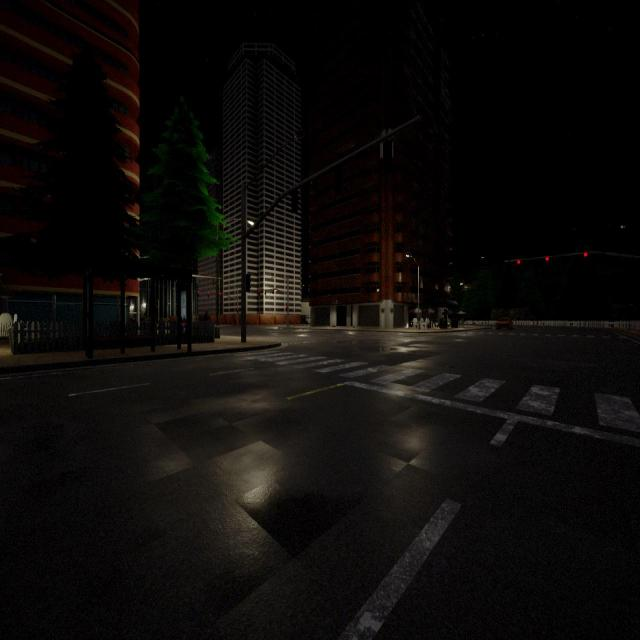Pedestrian: (202, 309, 211, 322)
Vehicle: (495, 318, 514, 330)
traffic_light: (383, 136, 392, 170), (333, 162, 342, 191), (291, 188, 298, 212), (246, 274, 252, 292), (285, 302, 288, 312), (517, 259, 521, 265), (545, 256, 549, 261), (584, 252, 588, 257), (197, 290, 199, 297), (258, 290, 260, 296), (264, 289, 266, 295), (272, 288, 274, 294), (219, 292, 221, 296), (208, 292, 209, 297), (238, 310, 238, 314)
